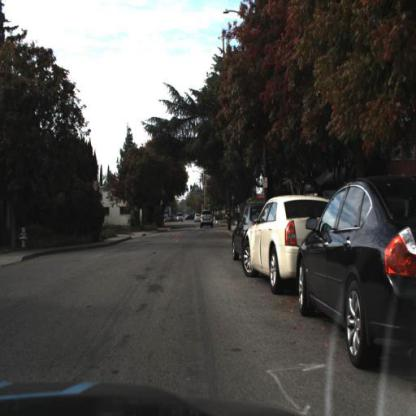car: (298, 180, 416, 378), (245, 190, 328, 301), (232, 195, 273, 270), (197, 206, 214, 232)
